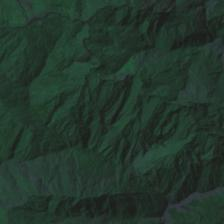landslides: (133, 54, 140, 69)
